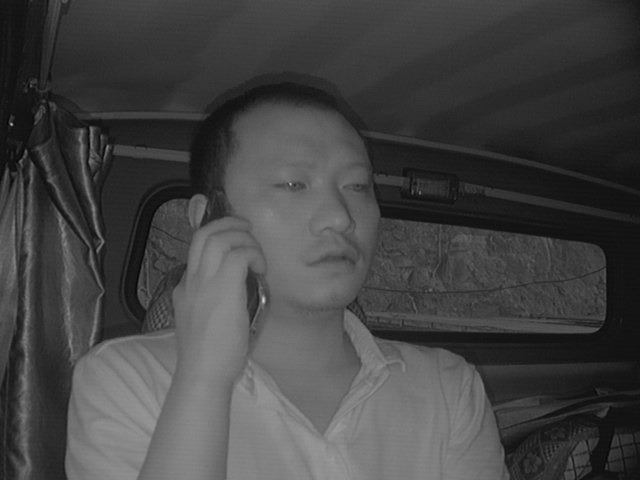hand: (169, 222, 275, 374)
